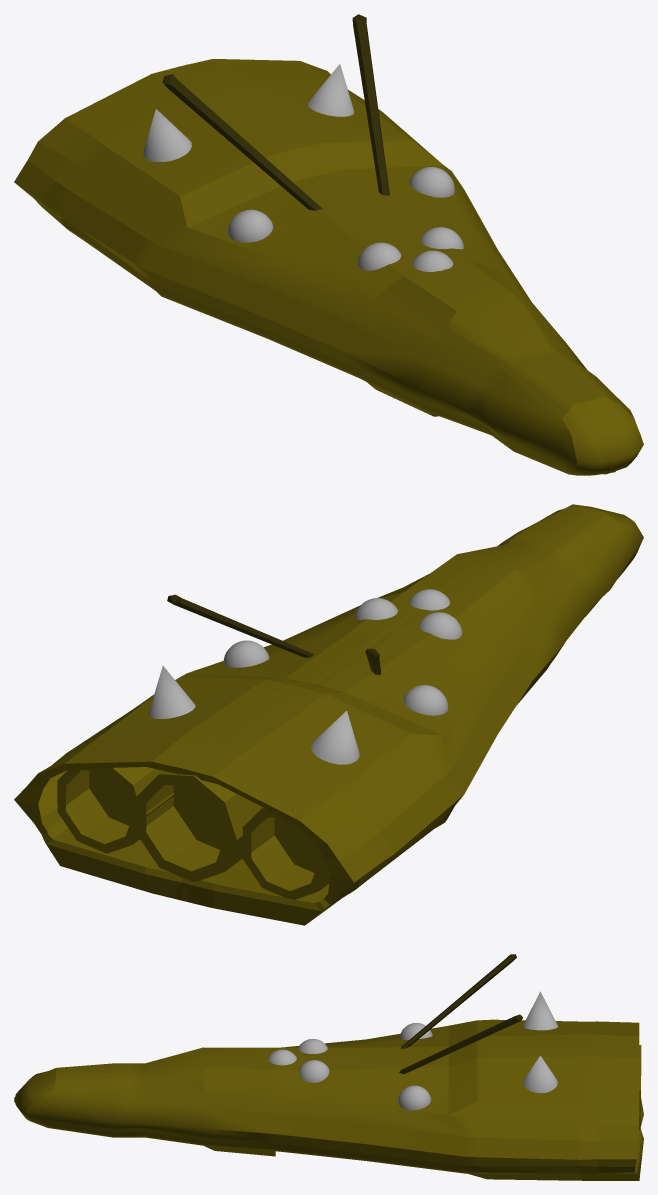
The model's file is Enemy_Ship.fbx.
The picture shows the model from 3 angles, top to bottom: view 1: azimuth 30°, elevation 25°; view 2: azimuth 150°, elevation 25°; view 3: azimuth 270°, elevation 25°; orthographic projection. The views are drawn at different scales.
Visible parts, largest first — view 1: polySurface129; view 2: polySurface129; view 3: polySurface129.
Boxes of the visible parts, x1,y1,x2,y2 form: polySurface129: (14, 14, 643, 475); polySurface129: (14, 504, 643, 925); polySurface129: (14, 954, 643, 1180).
Bounding box in the file's own units: 1045 × 648 × 2337.
